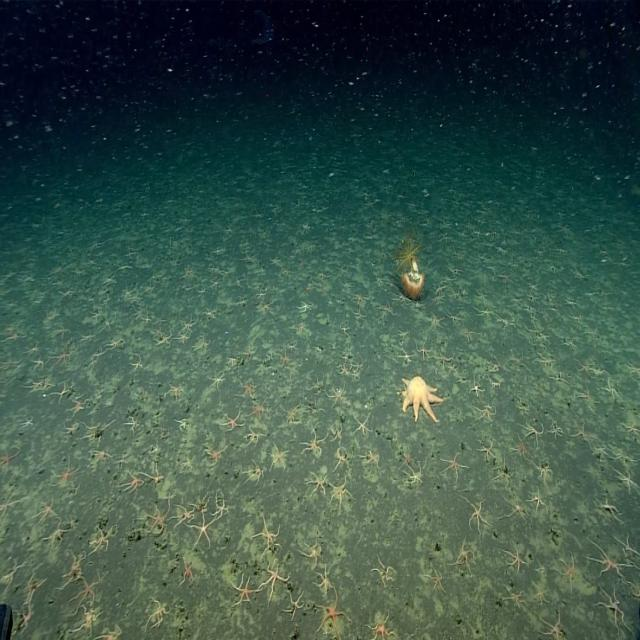brittle-stars: (588, 540, 625, 581), (317, 595, 349, 637), (598, 586, 627, 630), (15, 571, 47, 610), (262, 563, 290, 599), (74, 572, 102, 608), (143, 502, 170, 538), (0, 553, 23, 593), (255, 517, 280, 551), (0, 487, 23, 523), (54, 458, 81, 488), (466, 499, 488, 534), (234, 575, 258, 607), (187, 489, 214, 517), (74, 607, 100, 636), (194, 514, 216, 548), (148, 597, 171, 628), (88, 339, 110, 371), (368, 613, 394, 640), (539, 611, 563, 640), (372, 556, 395, 586), (572, 419, 596, 447), (504, 494, 526, 524), (455, 540, 475, 573), (45, 519, 68, 547), (91, 525, 113, 554), (557, 554, 578, 584), (442, 452, 466, 478), (614, 468, 638, 494), (596, 494, 620, 520), (66, 552, 86, 583), (503, 545, 525, 573), (0, 444, 21, 473), (332, 478, 352, 508), (547, 364, 571, 389), (304, 429, 326, 456), (587, 357, 613, 379), (284, 590, 304, 618), (522, 418, 544, 443), (85, 422, 110, 444), (36, 495, 56, 522), (316, 566, 335, 594), (494, 309, 518, 331), (245, 458, 264, 485), (223, 409, 245, 432), (426, 564, 444, 592), (174, 504, 195, 528), (307, 472, 327, 497), (271, 444, 289, 471), (622, 535, 640, 562), (205, 443, 226, 466), (607, 445, 631, 465), (514, 396, 534, 420), (303, 541, 322, 566), (18, 605, 36, 631), (249, 398, 268, 422), (145, 462, 163, 487), (180, 558, 196, 586), (124, 473, 145, 494), (494, 461, 513, 484), (240, 246, 259, 269), (528, 488, 546, 512), (513, 437, 531, 461), (477, 404, 498, 424), (54, 348, 75, 368), (392, 323, 412, 344), (505, 289, 526, 309), (451, 368, 474, 386), (506, 588, 526, 608), (370, 268, 389, 289), (241, 340, 259, 362), (92, 448, 112, 467), (621, 418, 640, 438), (478, 441, 496, 462), (605, 377, 622, 399), (285, 404, 300, 428), (407, 463, 424, 484), (354, 415, 371, 436), (3, 326, 24, 343), (99, 625, 122, 640), (329, 385, 347, 404), (535, 351, 554, 369), (532, 583, 548, 604), (168, 383, 186, 401), (362, 450, 380, 468), (180, 314, 198, 332), (70, 396, 88, 414), (578, 386, 596, 404), (214, 498, 228, 521), (56, 382, 72, 402), (450, 284, 464, 306), (209, 373, 226, 391), (125, 415, 142, 433), (246, 426, 263, 444), (239, 380, 255, 399), (98, 316, 114, 335), (417, 340, 432, 360), (469, 378, 484, 398), (438, 350, 455, 367), (157, 332, 174, 349), (54, 321, 71, 338), (475, 305, 493, 321), (576, 358, 592, 376), (527, 321, 545, 337), (549, 419, 564, 438), (336, 448, 350, 468), (312, 376, 326, 396), (88, 305, 102, 325), (294, 256, 314, 270), (25, 376, 42, 392), (428, 312, 443, 330), (536, 462, 551, 480), (196, 337, 211, 355), (458, 325, 476, 340), (630, 582, 640, 608), (378, 302, 394, 318), (393, 290, 409, 306), (447, 310, 464, 325), (64, 421, 81, 436), (586, 322, 600, 340), (235, 292, 248, 311), (496, 270, 512, 285), (536, 558, 548, 578), (526, 291, 542, 306), (29, 356, 45, 371), (627, 359, 640, 377), (332, 423, 344, 442), (522, 304, 541, 316), (99, 290, 114, 305), (299, 300, 315, 314), (110, 338, 126, 352), (81, 331, 97, 345), (155, 312, 169, 328), (175, 416, 189, 432), (511, 350, 525, 366), (114, 453, 128, 469), (403, 450, 416, 467), (121, 282, 134, 299), (131, 354, 143, 372), (398, 347, 412, 362), (353, 290, 368, 304), (21, 416, 36, 430), (563, 337, 577, 352), (568, 312, 583, 326), (61, 286, 76, 300), (26, 342, 40, 357), (488, 357, 501, 373), (181, 455, 194, 471), (197, 280, 208, 298), (176, 332, 190, 346), (102, 273, 116, 287), (563, 294, 577, 308), (204, 308, 218, 322), (488, 378, 502, 392), (225, 353, 238, 368), (280, 350, 292, 366), (40, 378, 52, 394), (182, 266, 195, 280), (353, 306, 366, 320), (288, 360, 300, 375), (377, 246, 389, 261), (476, 289, 489, 302), (435, 282, 448, 295), (262, 299, 275, 312), (444, 272, 456, 286), (340, 322, 352, 336), (547, 262, 559, 276), (339, 361, 350, 376), (142, 312, 153, 327), (596, 444, 608, 457), (270, 254, 282, 267), (450, 263, 463, 275), (296, 320, 307, 334), (149, 442, 159, 457), (135, 304, 145, 319), (528, 281, 540, 293), (210, 278, 222, 290), (286, 342, 298, 354), (257, 288, 269, 300), (234, 276, 246, 288), (414, 300, 426, 312), (254, 266, 266, 278), (281, 266, 292, 279), (431, 293, 444, 304), (317, 269, 328, 282), (368, 258, 378, 272), (342, 279, 354, 290), (319, 282, 330, 294), (338, 265, 349, 277), (207, 265, 218, 276), (353, 359, 363, 371), (350, 370, 360, 382), (342, 350, 352, 362), (448, 362, 458, 373)
